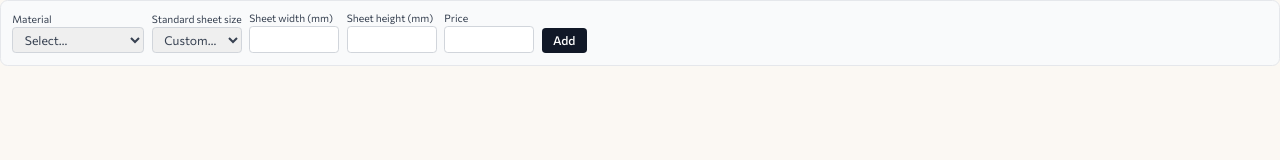
Scenario: MaterialAdmin › surfaces a role="alert" when add fails (no silent failure)
The width and height of the screenshot is (1280, 160).
Select "3mm plywood" in the dropdown labelled "Material". click: [78, 40]
box: [12,27,144,53]
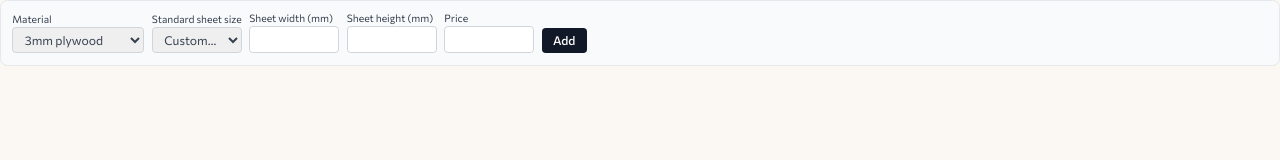
Click the button "Add". click: [564, 41]
box: [542,28,587,53]
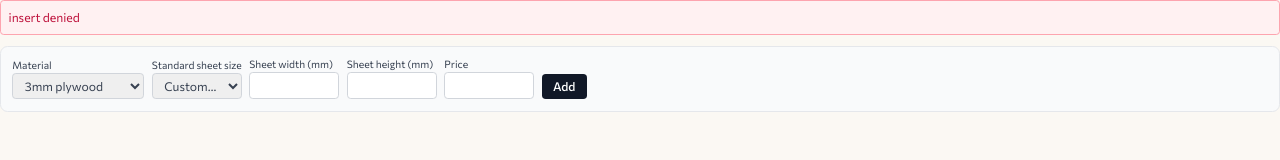
Result: the message "insert denied" is shown at [0,0,1279,35]
